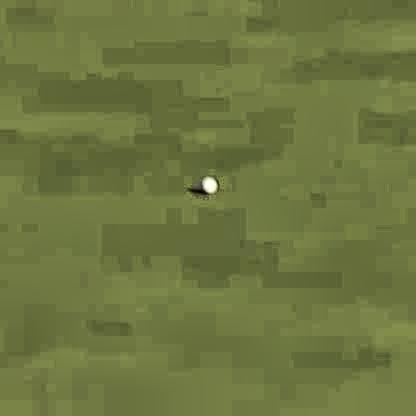golfball: (196, 173, 218, 192)
